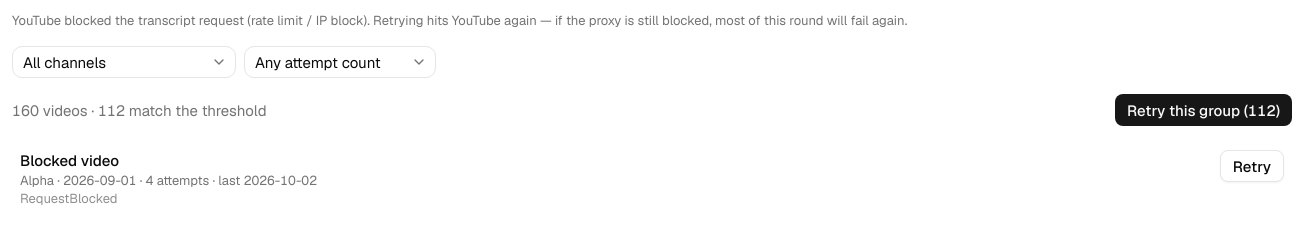
Scenario: FailedVideos › keeps the channel dropdown visible when the selected channel currently has none
The image size is (1304, 246).
Expected: the text "YouTube blocked the transcript request" is shown, [12, 12, 907, 29]
Select Alpha channel
Click the dropdown labelled "All channels ▼". click: (124, 62)
box: [12, 46, 236, 78]
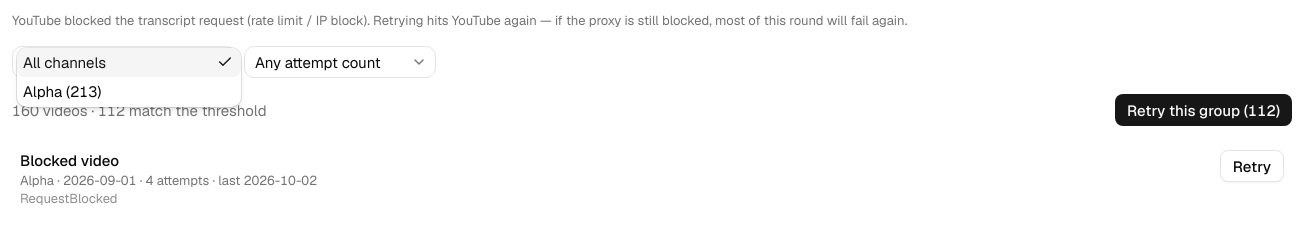
Click the option "Alpha (213)". click: (62, 92)
box: [23, 82, 101, 101]
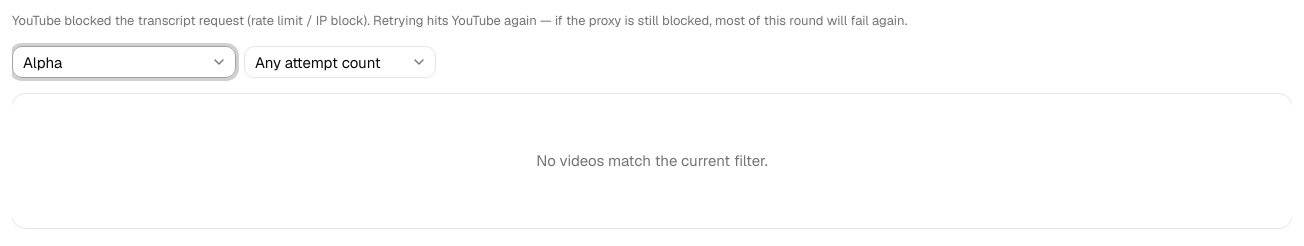
Expected: the number of dropdowns is 2, [12, 46, 236, 78]; [244, 46, 436, 78]
Result: the text "No videos match the current filter." is shown at [536, 151, 768, 170]
